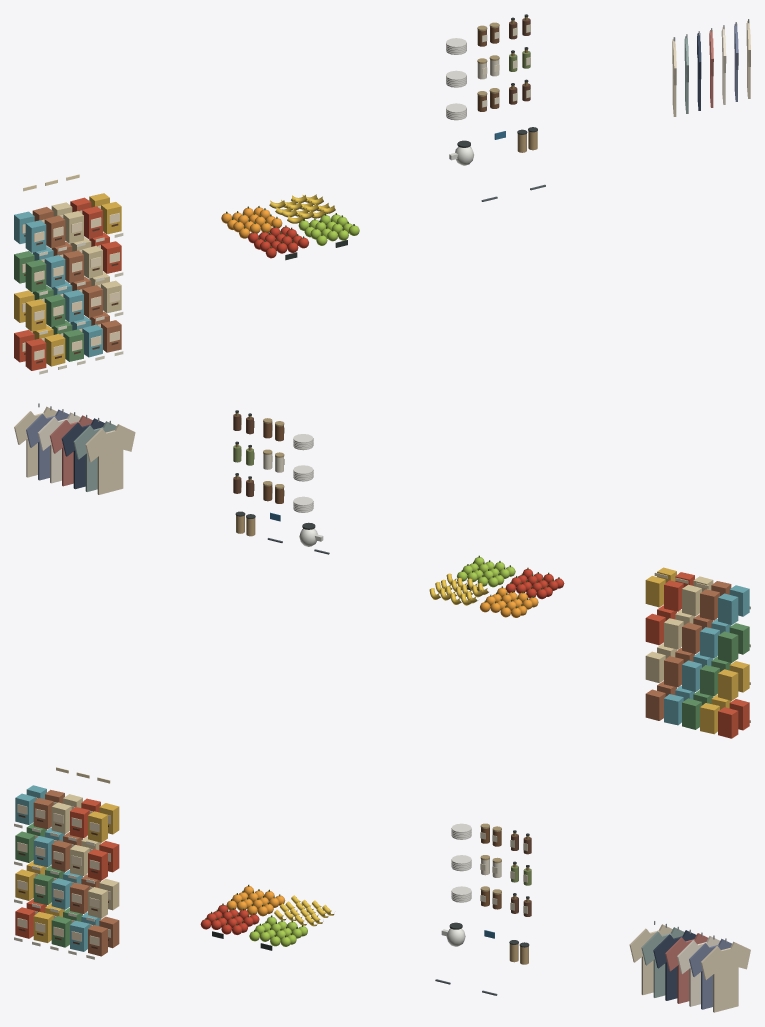
File: shop-stock.glb
The picture shows the model from 3 angles, top to bottom: view 1: azimuth 30°, elevation 25°; view 2: azimuth 150°, elevation 25°; view 3: azimuth 330°, elevation 25°; orthographic projection. The views are drawn at different scales.
Visible parts, largest first — view 1: stock-snacks-packages_73b5bf, stock-snacks-packages_b67856, stock-snacks-details_ffedcc, stock-snacks-packages_e8bb4f, stock-snacks-packages_d45c3f, stock-snacks-packages_699c6a, stock-snacks-packages_e5d4a7, stock-fruit-produce_a5c94e, stock-fruit-produce_c64732, stock-fruit-produce_f0a13a, stock-fruit-bananas_eac64e, stock-cafe-jars_e8e6de (+2 smaller); view 2: stock-clothing-garments_e6d8be, stock-snacks-packages_73b5bf, stock-snacks-packages_b67856, stock-snacks-packages_e8bb4f, stock-snacks-packages_d45c3f, stock-snacks-packages_699c6a, stock-snacks-packages_e5d4a7, stock-fruit-produce_f0a13a, stock-fruit-produce_c64732, stock-fruit-produce_a5c94e, stock-fruit-bananas_eac64e, stock-clothing-garments_404e64 (+7 smaller); view 3: stock-clothing-garments_e6d8be, stock-snacks-packages_b67856, stock-snacks-packages_73b5bf, stock-snacks-details_ffedcc, stock-snacks-packages_e5d4a7, stock-snacks-packages_d45c3f, stock-snacks-packages_e8bb4f, stock-snacks-packages_699c6a, stock-fruit-produce_c64732, stock-fruit-produce_a5c94e, stock-fruit-produce_f0a13a, stock-clothing-garments_9aafaa (+9 smaller).
Part boxes in pixels (x1=…): stock-snacks-packages_73b5bf: x1=14, y1=211, x2=102, y2=357; stock-snacks-packages_b67856: x1=32, y1=207, x2=121, y2=352; stock-snacks-details_ffedcc: x1=22, y1=206, x2=119, y2=360; stock-snacks-packages_e8bb4f: x1=14, y1=193, x2=121, y2=366; stock-snacks-packages_d45c3f: x1=14, y1=197, x2=121, y2=370; stock-snacks-packages_699c6a: x1=14, y1=251, x2=83, y2=361; stock-snacks-packages_e5d4a7: x1=51, y1=202, x2=121, y2=313; stock-fruit-produce_a5c94e: x1=298, y1=214, x2=359, y2=245; stock-fruit-produce_c64732: x1=248, y1=227, x2=308, y2=258; stock-fruit-produce_f0a13a: x1=221, y1=207, x2=282, y2=238; stock-fruit-bananas_eac64e: x1=269, y1=194, x2=335, y2=223; stock-cafe-jars_e8e6de: x1=446, y1=38, x2=466, y2=120; stock-clothing-garments_e6d8be: x1=14, y1=406, x2=135, y2=494; stock-snacks-packages_73b5bf: x1=664, y1=585, x2=749, y2=725; stock-snacks-packages_b67856: x1=645, y1=581, x2=731, y2=720; stock-snacks-packages_e8bb4f: x1=645, y1=567, x2=749, y2=734; stock-snacks-packages_d45c3f: x1=645, y1=572, x2=749, y2=738; stock-snacks-packages_699c6a: x1=682, y1=623, x2=749, y2=729; stock-snacks-packages_e5d4a7: x1=645, y1=576, x2=713, y2=683; stock-fruit-produce_f0a13a: x1=480, y1=587, x2=538, y2=617; stock-fruit-produce_c64732: x1=505, y1=569, x2=564, y2=599; stock-fruit-produce_a5c94e: x1=457, y1=557, x2=515, y2=587; stock-fruit-bananas_eac64e: x1=429, y1=573, x2=488, y2=605; stock-clothing-garments_404e64: x1=61, y1=418, x2=104, y2=489; stock-clothing-garments_e6d8be: x1=629, y1=924, x2=750, y2=1012; stock-snacks-packages_b67856: x1=33, y1=789, x2=119, y2=956; stock-snacks-packages_73b5bf: x1=15, y1=785, x2=100, y2=951; stock-snacks-details_ffedcc: x1=17, y1=797, x2=110, y2=945; stock-snacks-packages_e5d4a7: x1=51, y1=794, x2=119, y2=918; stock-snacks-packages_d45c3f: x1=15, y1=798, x2=119, y2=938; stock-snacks-packages_e8bb4f: x1=15, y1=803, x2=119, y2=942; stock-snacks-packages_699c6a: x1=15, y1=823, x2=82, y2=947; stock-fruit-produce_c64732: x1=200, y1=905, x2=259, y2=934; stock-fruit-produce_a5c94e: x1=249, y1=916, x2=307, y2=946; stock-fruit-produce_f0a13a: x1=226, y1=886, x2=285, y2=916; stock-clothing-garments_9aafaa: x1=641, y1=927, x2=684, y2=997.
Bounding box in the file's own units: 6.89 × 1.93 × 0.8313.
